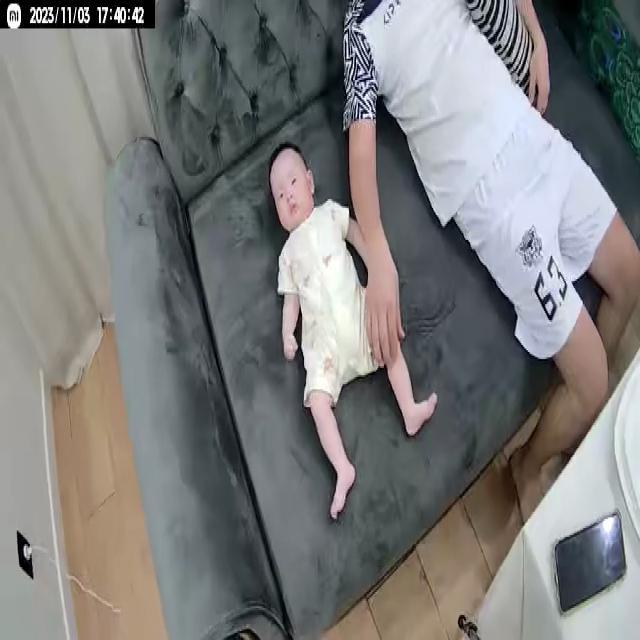baby: (265, 137, 440, 527)
